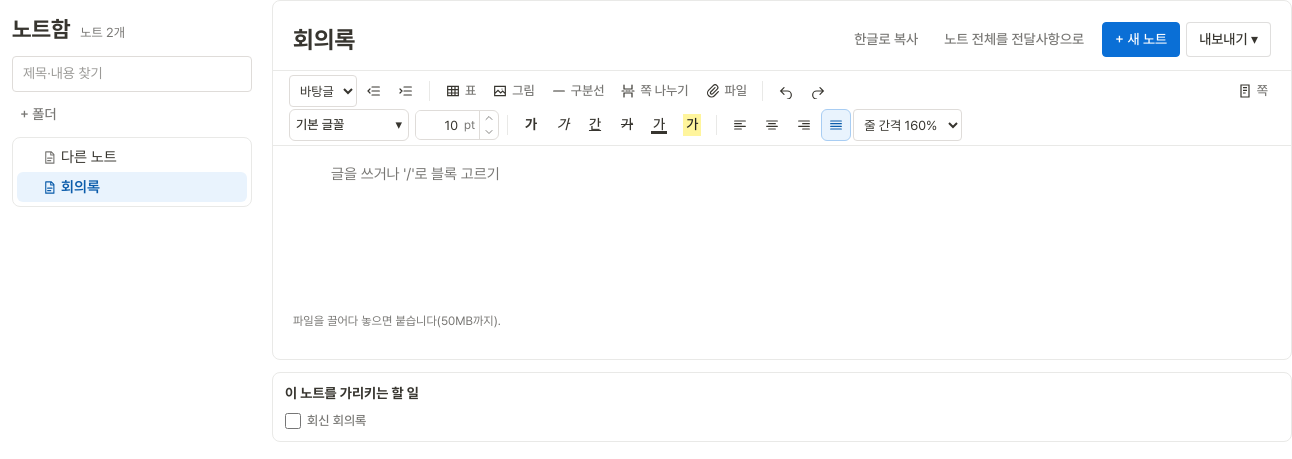
Test: 개요: 번호 목록에서 Tab이면 한 칸 들어가 "가."로
Check: the field showing "회의록" is shown, box [293,17,834,62]
Click the field named "블록".
click(800, 174)  # box [329,159,1271,189]
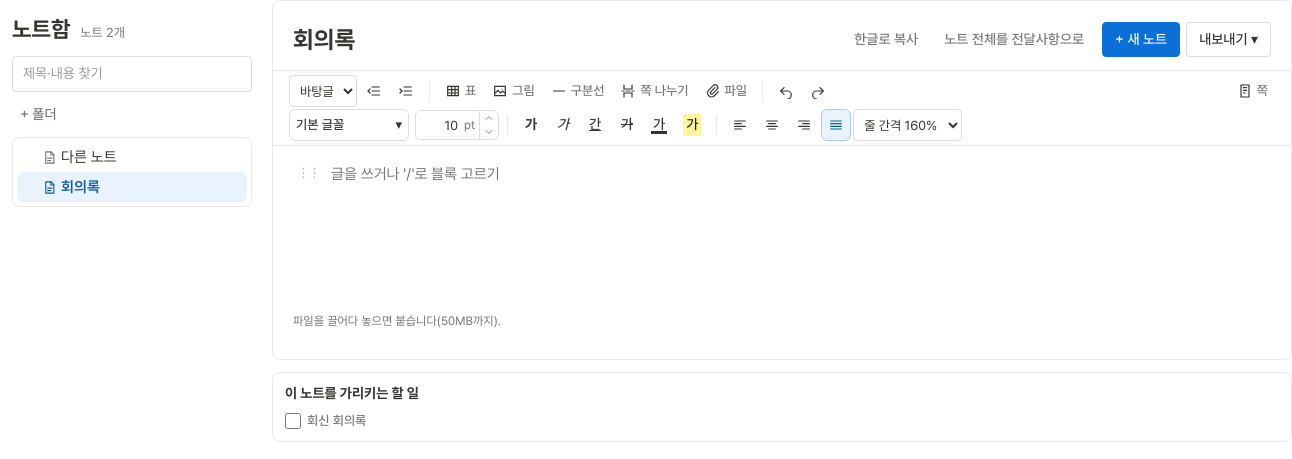
Type keys "/번호"
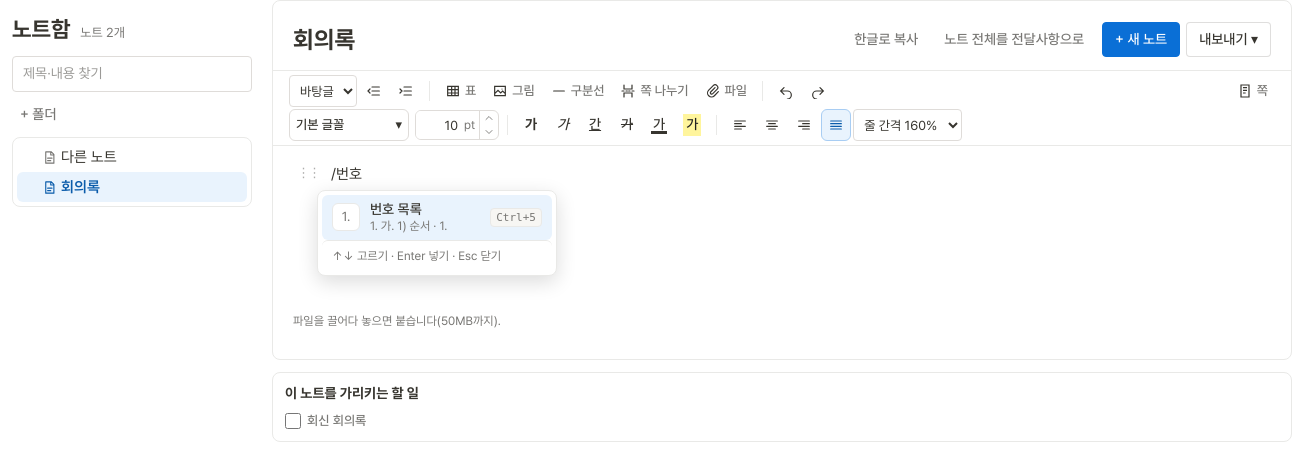
Press Enter
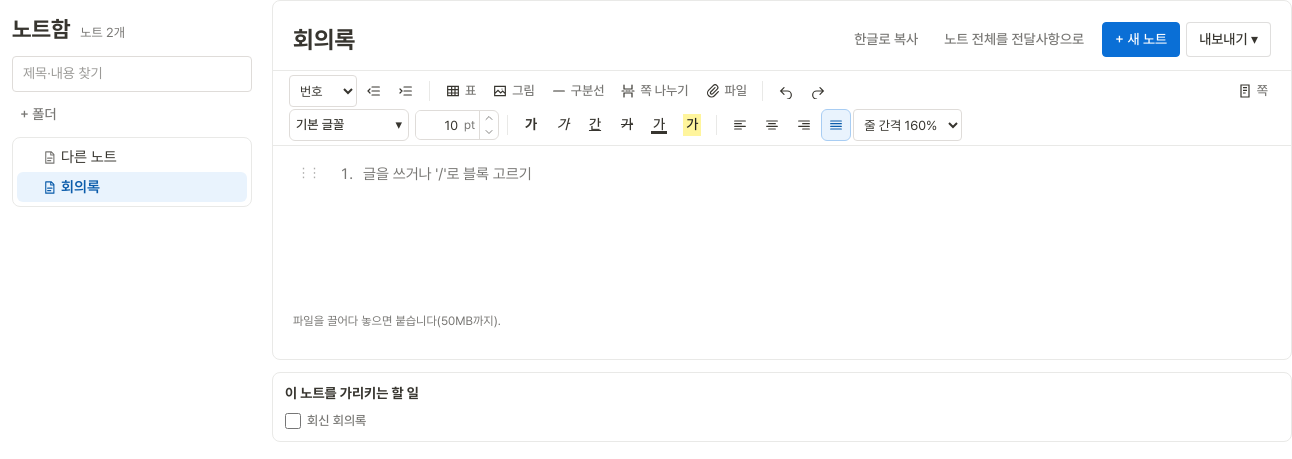
Type keys "목적{Enter}"
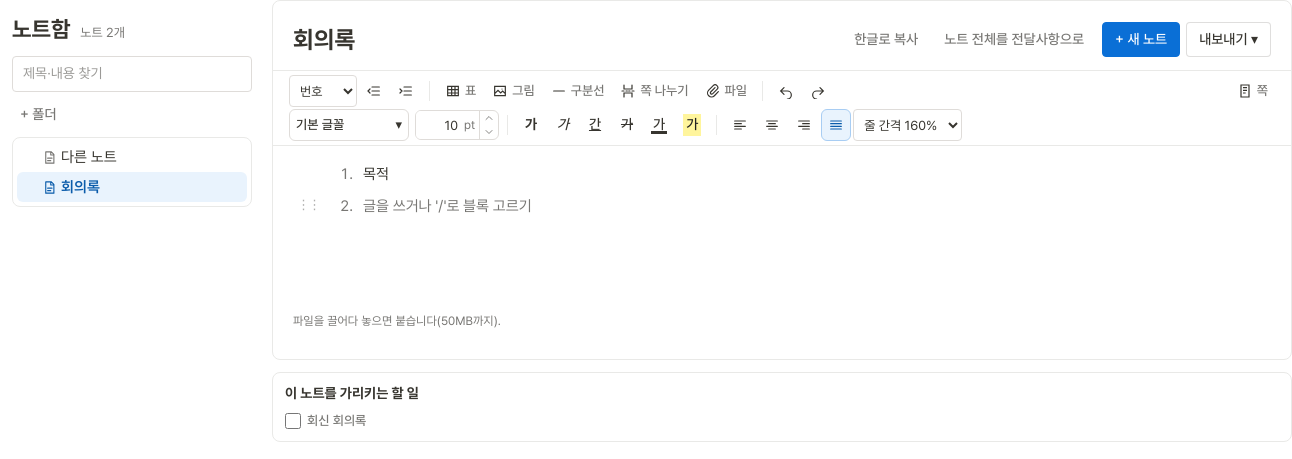
Type keys "{Tab}세부"
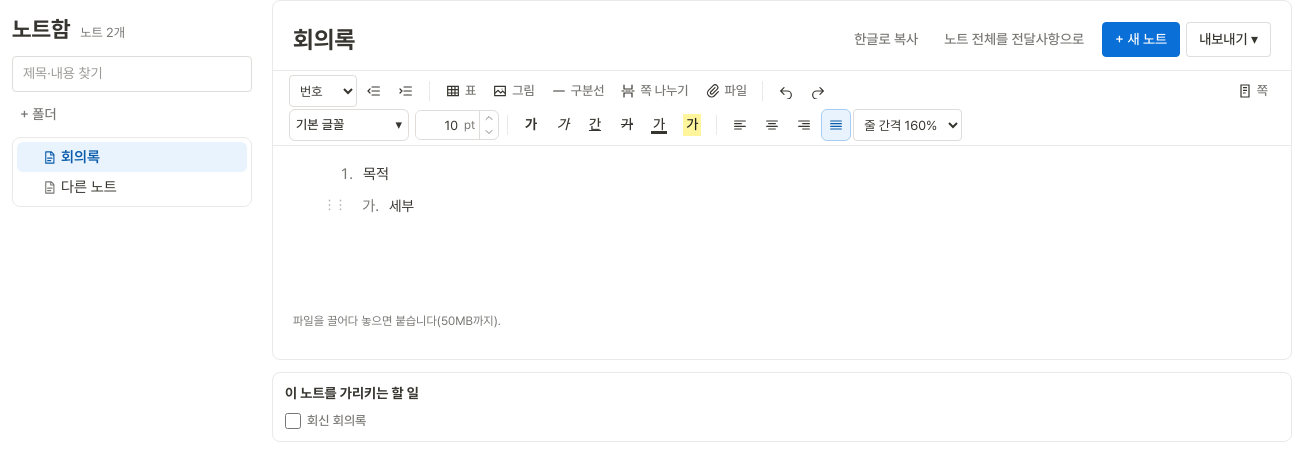
Check: the text "가." is shown, box [362,199,379,214]
